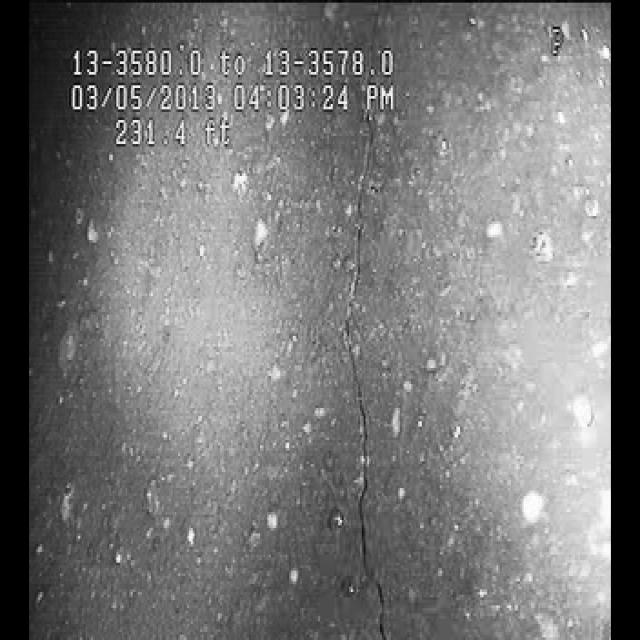Crack: (334, 159, 414, 597)
